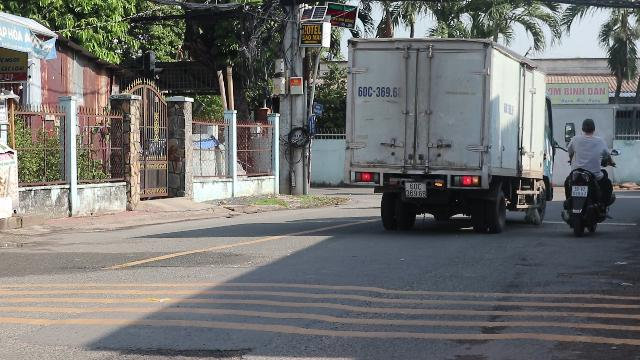licenseplate: (571, 186, 587, 196)
motorcyclist: (560, 117, 616, 235)
nohelmet: (580, 117, 596, 134)
